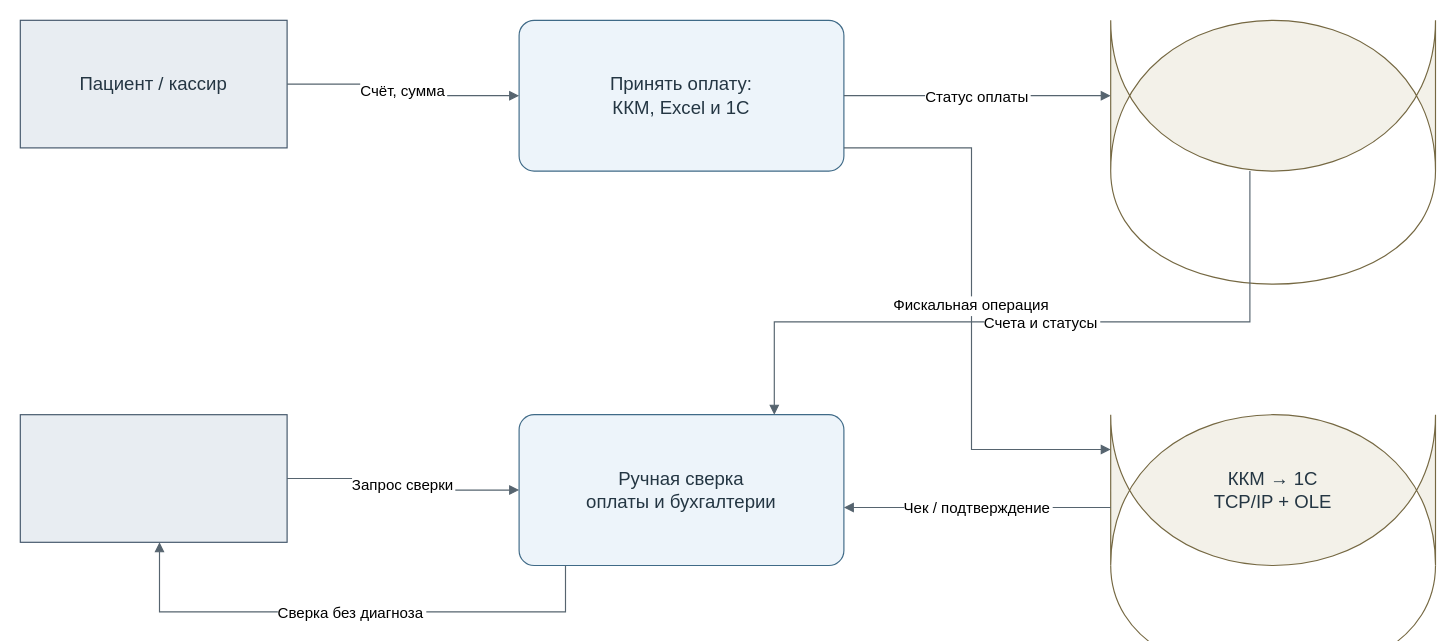
Some shapes in this 1456 by 641 pixel diagram are drawn without their labels. The centre of each missing label's shape, as x and y in pixels:
Бухгалтер: pixel 153 478
Учёт оплаты.xlsx и файловая 1С: pixel 1273 95
